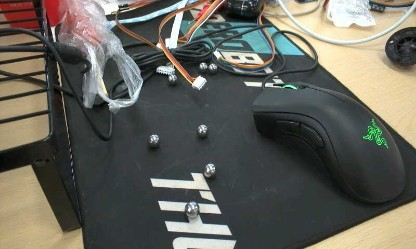ironball: (184, 201, 199, 218), (202, 162, 216, 178), (147, 133, 159, 147), (196, 124, 208, 137), (167, 73, 177, 85), (198, 61, 207, 72), (208, 62, 217, 73)
